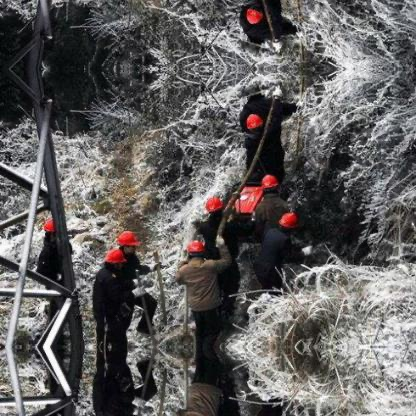Safety Helmet: (202, 188, 229, 223), (115, 229, 142, 260), (102, 249, 129, 278), (277, 205, 300, 237), (182, 237, 204, 265), (259, 171, 281, 199), (242, 109, 265, 135)
